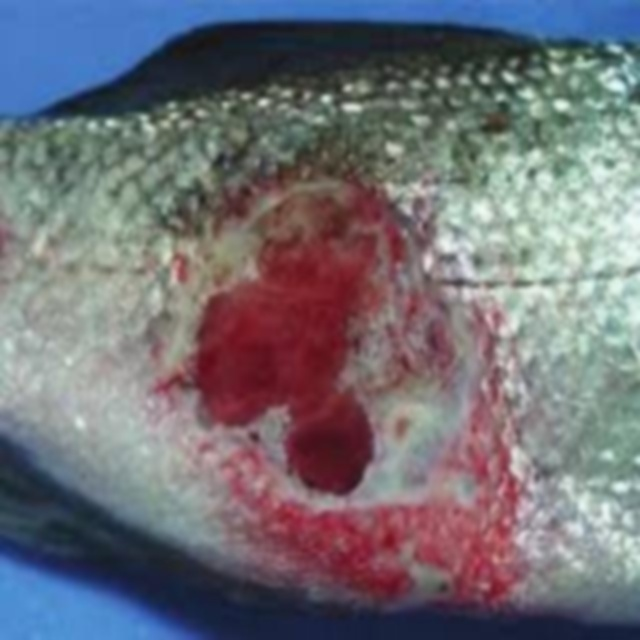EUS Disease: (0, 19, 640, 625), (104, 128, 571, 617)
